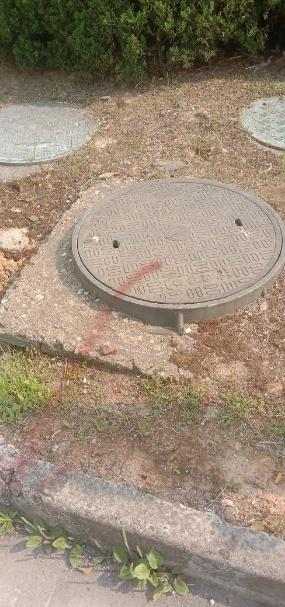wellcover: (28, 176, 285, 362), (0, 82, 112, 168), (226, 86, 285, 159)
